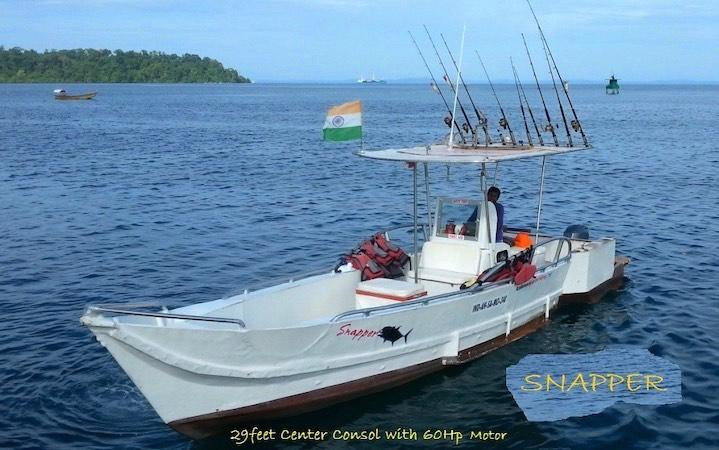fishing boat: (76, 34, 632, 442), (51, 84, 99, 102), (354, 75, 388, 86)
